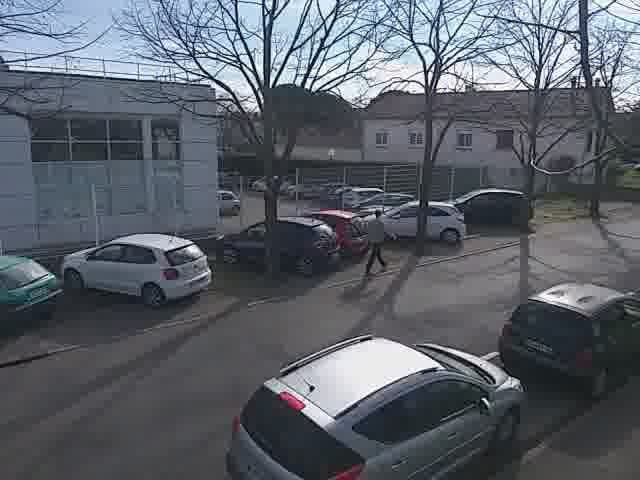persona: (360, 194, 395, 274)
